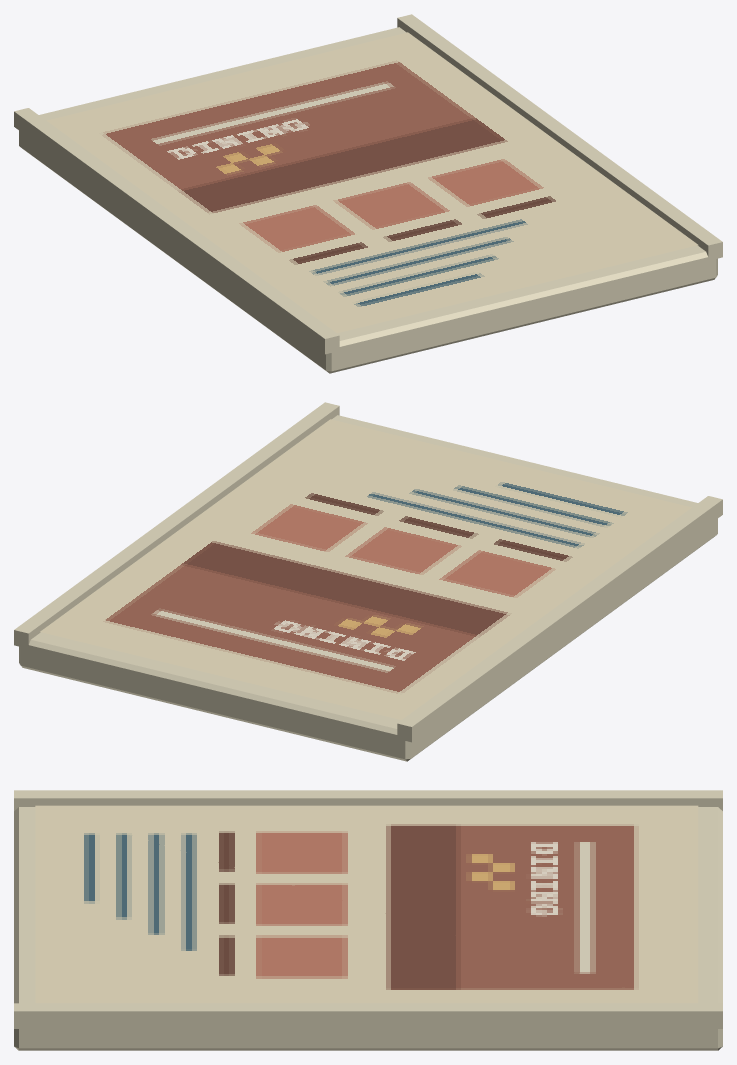
The model's file is restaurantbrochure.glb.
3 views of the same model, one above another, from view 1: azimuth 30°, elevation 25°; view 2: azimuth 150°, elevation 25°; view 3: azimuth 270°, elevation 25° (orthographic). The views are drawn at different scales.
Parts seen in each view (by area): view 1: block_printed face, block_paper or card stock, block_folded paper edge (×2); view 2: block_printed face, block_paper or card stock, block_folded paper edge (×2); view 3: block_printed face, block_folded paper edge (×2), block_paper or card stock.
Part boxes in pixels (<box>): block_printed face: <box>46,32,698,333</box>; block_paper or card stock: <box>19,27,717,373</box>; block_folded paper edge (×2): <box>14,14,722,354</box>; block_printed face: <box>40,419,691,720</box>; block_paper or card stock: <box>19,415,717,761</box>; block_folded paper edge (×2): <box>14,402,722,742</box>; block_printed face: <box>35,805,698,1003</box>; block_folded paper edge (×2): <box>14,790,722,1028</box>; block_paper or card stock: <box>14,807,722,1050</box>.
Size of the model in its own units: 0.1814 by 0.0165 by 0.2457.
1 material, 1 textured.
